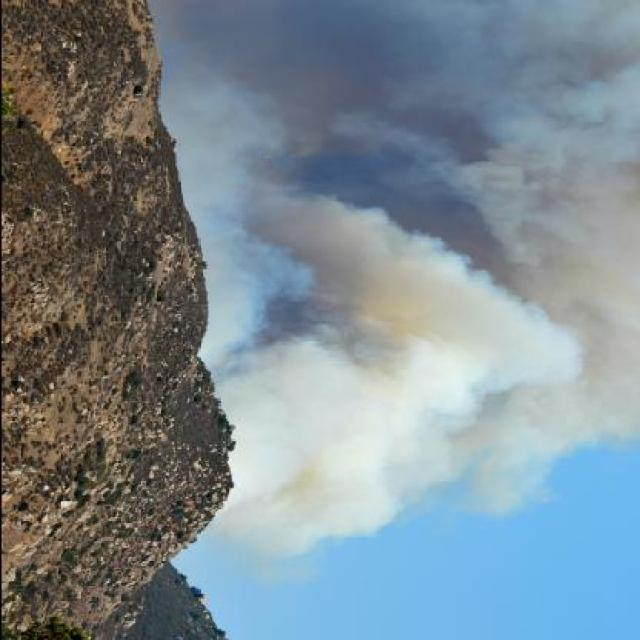Smoke: (138, 0, 640, 581)
